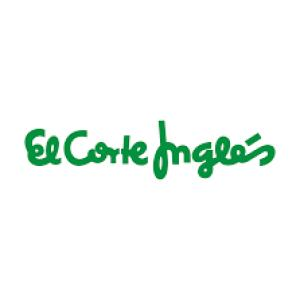corte_ingles: (17, 123, 275, 183)
